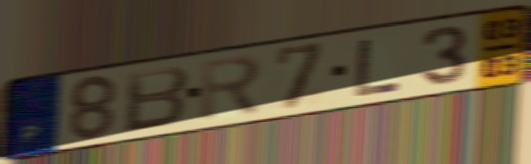3: (417, 24, 472, 87)
7: (273, 41, 328, 114)
8: (69, 72, 118, 143)
B: (121, 63, 192, 135)
L: (352, 35, 406, 100)
R: (198, 52, 267, 125)
